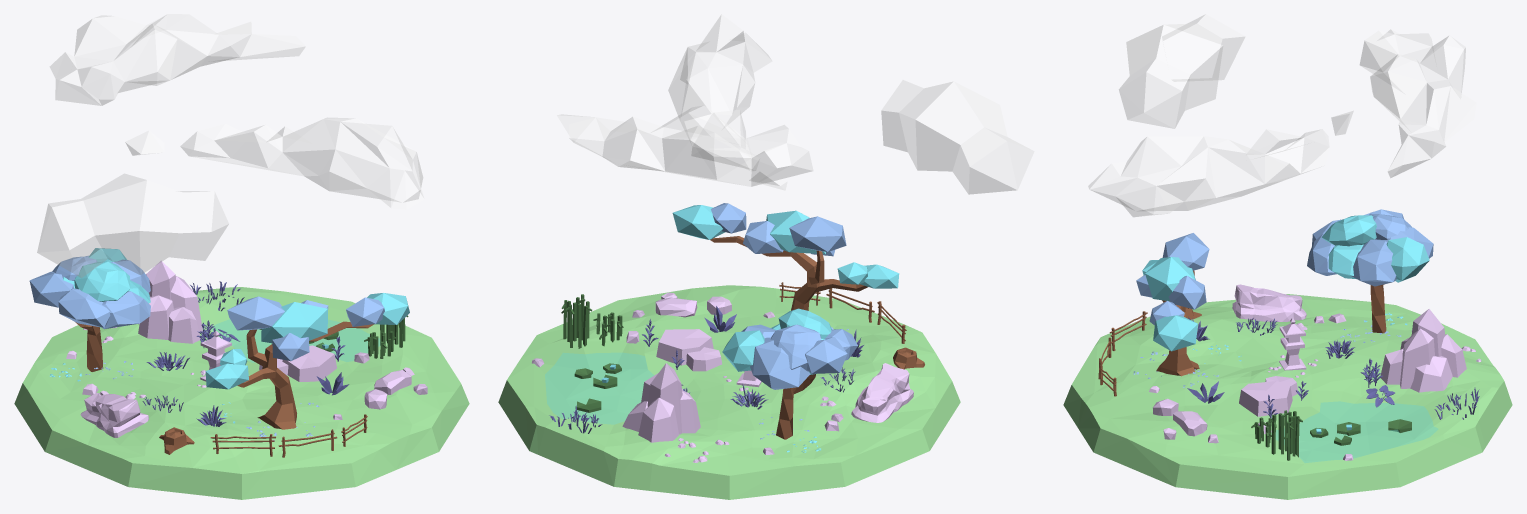
Rendered from cherryn.gltf.
3 views of the same model, side by side, from view 1: azimuth 30°, elevation 25°; view 2: azimuth 150°, elevation 25°; view 3: azimuth 270°, elevation 25° (orthographic). The views are drawn at different scales.
Visible parts, largest first — view 1: SM_Base_Dirt_01, SM_Env_Generic_Cloud_01, SM_Env_Generic_Cloud_04, SM_Env_Generic_Cloud_02, SM_Env_Samurai_Tree_01, SM_Env_Generic_Rock_05, Object003, Object002, SM_Env_Rock_03, SM_Tile_Hex_Flat_Water_01, GeoSphere008, Object001 (+11 smaller); view 2: SM_Base_Dirt_01, SM_Env_Generic_Cloud_02, SM_Env_Generic_Cloud_01, SM_Env_Generic_Cloud_04, SM_Tile_Hex_Flat_Water_01, SM_Env_Generic_Rock_05, SM_Env_Samurai_Tree_01, Object003, SM_Env_Rock_03, SM_Env_Generic_Rock_03, Object002, Object001 (+8 smaller); view 3: SM_Base_Dirt_01, SM_Env_Generic_Cloud_04, SM_Env_Generic_Cloud_02, SM_Env_Generic_Cloud_01, SM_Tile_Hex_Flat_Water_01, SM_Env_Generic_Rock_05, SM_Env_Samurai_Tree_01, Object003, SM_Env_Rock_03, SM_Env_Generic_Rock_03, Object001, GeoSphere011 (+10 smaller).
Boxes of the visible parts, bbox=[...] form: SM_Base_Dirt_01: bbox=[14, 287, 469, 499]; SM_Env_Generic_Cloud_01: bbox=[37, 173, 228, 277]; SM_Env_Generic_Cloud_04: bbox=[125, 117, 423, 209]; SM_Env_Generic_Cloud_02: bbox=[50, 14, 305, 105]; SM_Env_Samurai_Tree_01: bbox=[205, 293, 409, 389]; SM_Env_Generic_Rock_05: bbox=[138, 260, 202, 343]; Object003: bbox=[227, 296, 384, 361]; Object002: bbox=[237, 321, 373, 429]; SM_Env_Rock_03: bbox=[80, 393, 148, 437]; SM_Tile_Hex_Flat_Water_01: bbox=[211, 319, 379, 362]; GeoSphere008: bbox=[74, 261, 130, 301]; Object001: bbox=[66, 350, 427, 419]; SM_Base_Dirt_01: bbox=[498, 285, 960, 499]; SM_Env_Generic_Cloud_02: bbox=[557, 105, 813, 186]; SM_Env_Generic_Cloud_01: bbox=[881, 80, 1034, 194]; SM_Env_Generic_Cloud_04: bbox=[668, 14, 787, 190]; SM_Tile_Hex_Flat_Water_01: bbox=[545, 353, 653, 424]; SM_Env_Generic_Rock_05: bbox=[622, 363, 700, 442]; SM_Env_Samurai_Tree_01: bbox=[672, 205, 899, 288]; Object003: bbox=[711, 203, 846, 256]; SM_Env_Rock_03: bbox=[851, 363, 913, 422]; SM_Env_Generic_Rock_03: bbox=[656, 329, 721, 371]; Object002: bbox=[710, 236, 867, 310]; Object001: bbox=[532, 292, 843, 454]; SM_Base_Dirt_01: bbox=[1063, 294, 1512, 499]; SM_Env_Generic_Cloud_04: bbox=[1088, 111, 1353, 216]; SM_Env_Generic_Cloud_02: bbox=[1360, 29, 1476, 177]; SM_Env_Generic_Cloud_01: bbox=[1119, 14, 1245, 128]; SM_Tile_Hex_Flat_Water_01: bbox=[1276, 401, 1437, 462]; SM_Env_Generic_Rock_05: bbox=[1380, 309, 1466, 392]; SM_Env_Samurai_Tree_01: bbox=[1142, 257, 1197, 351]; Object003: bbox=[1136, 233, 1209, 325]; SM_Env_Rock_03: bbox=[1232, 284, 1306, 321]; SM_Env_Generic_Rock_03: bbox=[1239, 376, 1297, 416]; Object001: bbox=[1149, 313, 1412, 460]; GeoSphere011: bbox=[1351, 239, 1396, 286].
Bounding box in the file's own units: 559 × 414 × 499.
